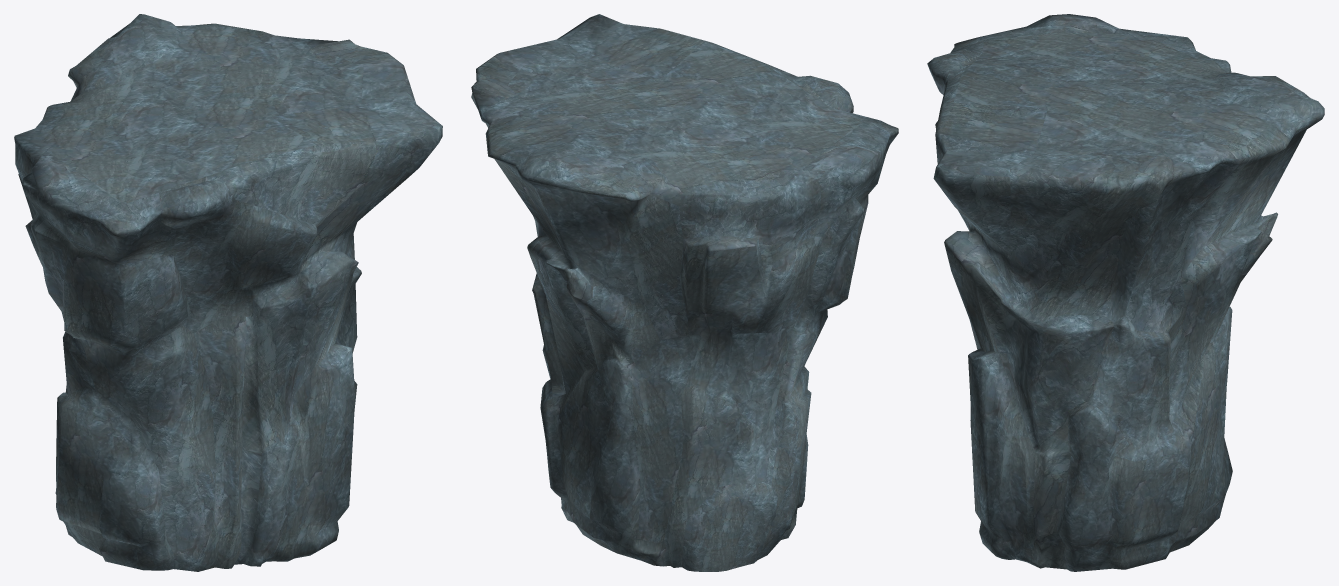
The model's file is tesv_glacierpillarlg01-transformed.glb.
3 views of the same model, side by side, from view 1: azimuth 30°, elevation 25°; view 2: azimuth 150°, elevation 25°; view 3: azimuth 270°, elevation 25° (orthographic). The views are drawn at different scales.
Visible parts, largest first — view 1: glacierpillarlg01; view 2: glacierpillarlg01; view 3: glacierpillarlg01.
Part boxes in pixels (x1=…): glacierpillarlg01: x1=14, y1=14, x2=442, y2=571; glacierpillarlg01: x1=471, y1=14, x2=898, y2=571; glacierpillarlg01: x1=927, y1=14, x2=1324, y2=571.
Size of the model in its own units: 14.03 by 15.18 by 12.31.
1 material, 1 textured.
